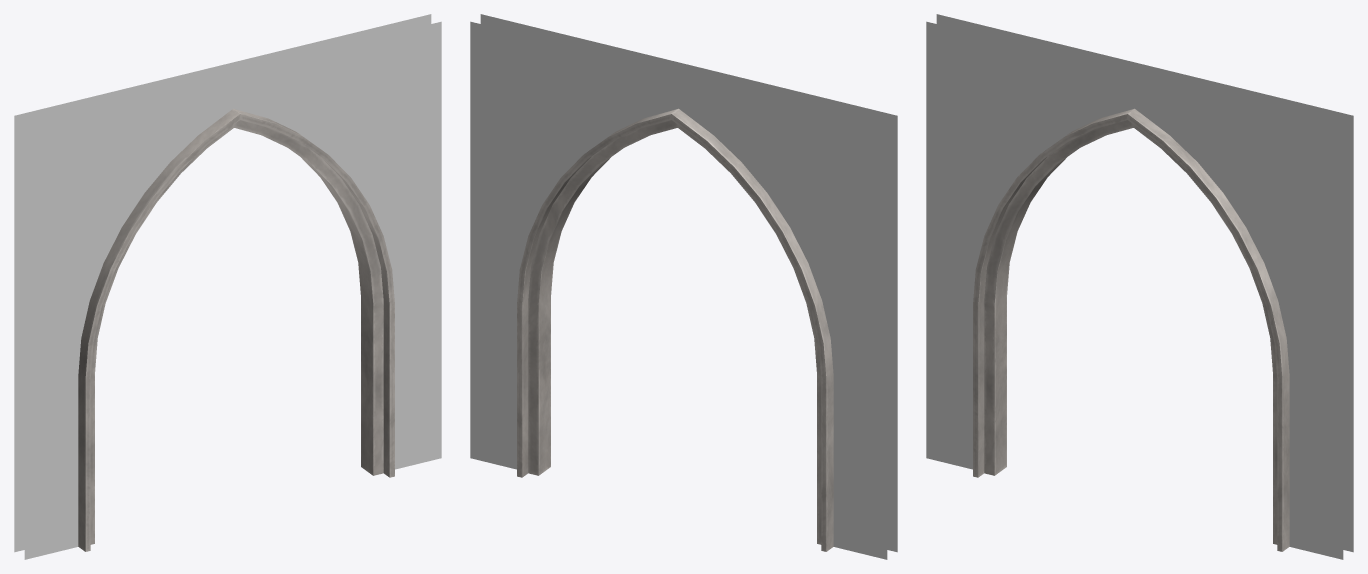
Rendered from Wall_F_B.fbx.
The picture shows the model from 3 angles, left to right: view 1: azimuth 30°, elevation 25°; view 2: azimuth 150°, elevation 25°; view 3: azimuth 330°, elevation 25°; orthographic projection.
Parts seen in each view (by area): view 1: Wall_F_B; view 2: Wall_F_B; view 3: Wall_F_B.
Part boxes in pixels (x1,y1,x2,y2): Wall_F_B: (14, 14, 441, 559); Wall_F_B: (470, 14, 897, 559); Wall_F_B: (926, 14, 1353, 559).
Size of the model in its own units: 6 by 0.6115 by 6.
